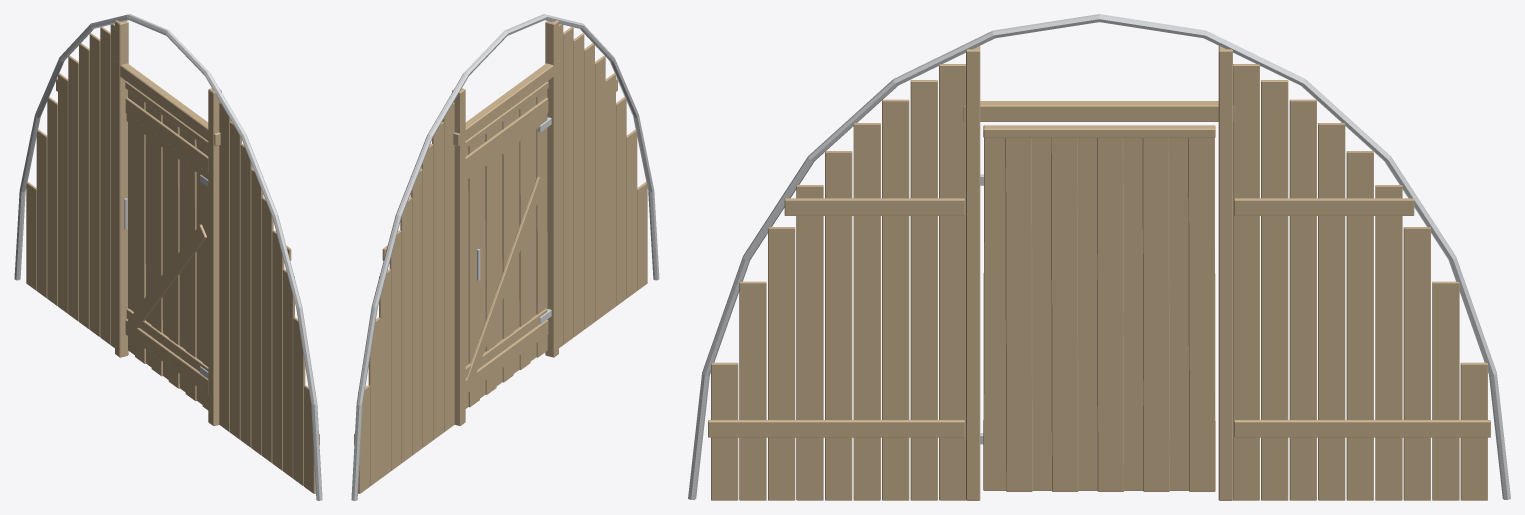
File: garden-centre-and-florist-polytunnel-end-frame-48e01fed__17711.glb
The picture shows the model from 3 angles, left to right: view 1: azimuth 30°, elevation 25°; view 2: azimuth 150°, elevation 25°; view 3: azimuth 270°, elevation 25°; orthographic projection. The views are drawn at different scales.
Visible parts, largest first — view 1: polytunnel-end-frame, tunnel-door; view 2: polytunnel-end-frame, tunnel-door (×2); view 3: polytunnel-end-frame, tunnel-door.
Boxes of the visible parts, x1,y1,x2,y2 form: polytunnel-end-frame: (14,14,322,500); tunnel-door: (125,81,208,410); polytunnel-end-frame: (351,14,659,500); tunnel-door (×2): (465,81,551,408); polytunnel-end-frame: (688,14,1510,500); tunnel-door: (983,125,1215,491).
Size of the model in its own units: 0.122 by 2.62 by 4.04.
